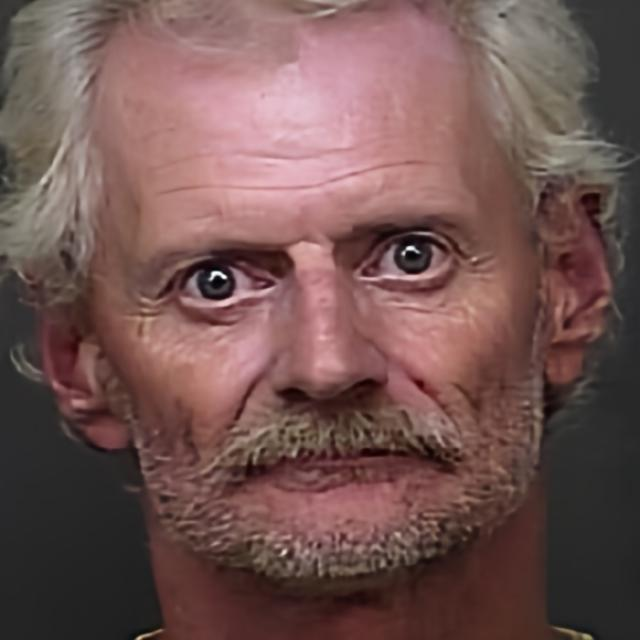fear: (91, 0, 540, 594)
